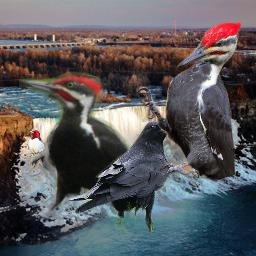Crow: (67, 121, 182, 233)
Woodpecker: (19, 66, 148, 220), (136, 21, 241, 182), (27, 130, 46, 168)
